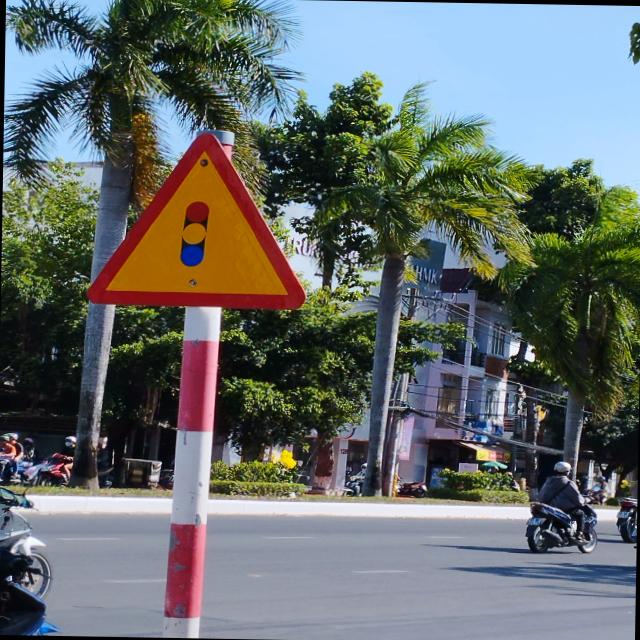Duong_Co_Go_Giam_Toc: (83, 130, 308, 308)
